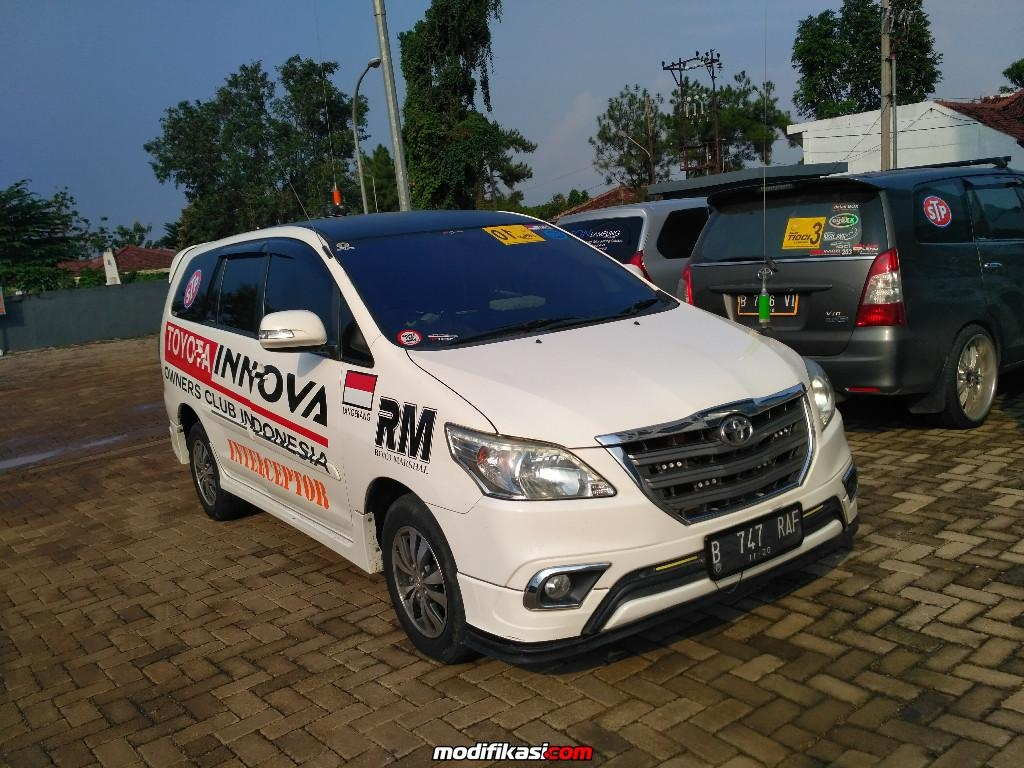plate: (706, 506, 806, 570)
